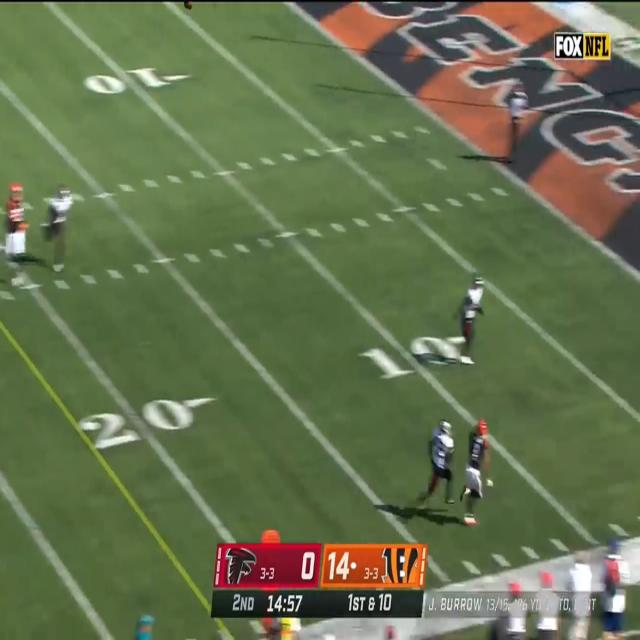Ball: (184, 1, 192, 10)
